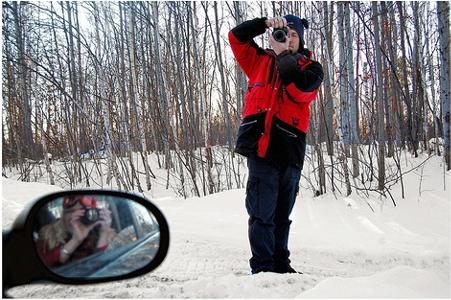person: (229, 15, 324, 274)
